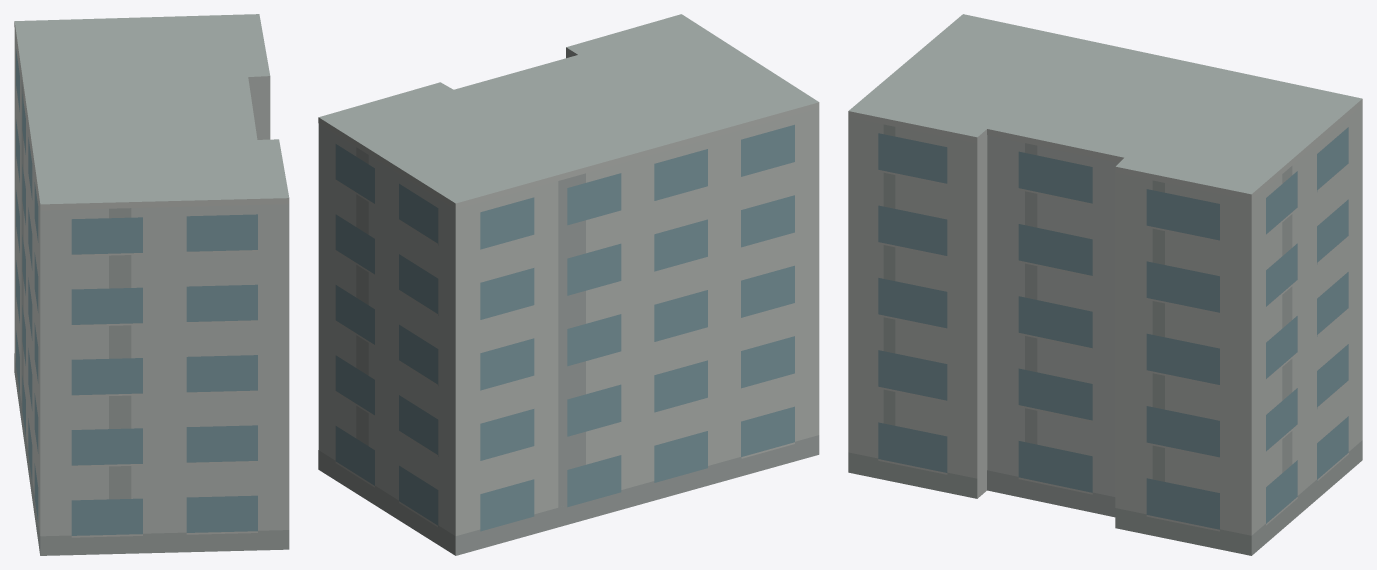
Rendered from survey-upis-32886661.glb.
The picture shows the model from 3 angles, left to right: view 1: azimuth 30°, elevation 25°; view 2: azimuth 150°, elevation 25°; view 3: azimuth 270°, elevation 25°; orthographic projection. The views are drawn at different scales.
Parts seen in each view (by area): view 1: survey-upis-32886661.tmp; view 2: survey-upis-32886661.tmp; view 3: survey-upis-32886661.tmp.
Boxes of the visible parts, left/top/right/bottom form: survey-upis-32886661.tmp: left=14, top=14, right=289, bottom=555; survey-upis-32886661.tmp: left=318, top=14, right=819, bottom=555; survey-upis-32886661.tmp: left=848, top=14, right=1362, bottom=555.
Size of the model in its own units: 15.15 by 14.15 by 18.25.
